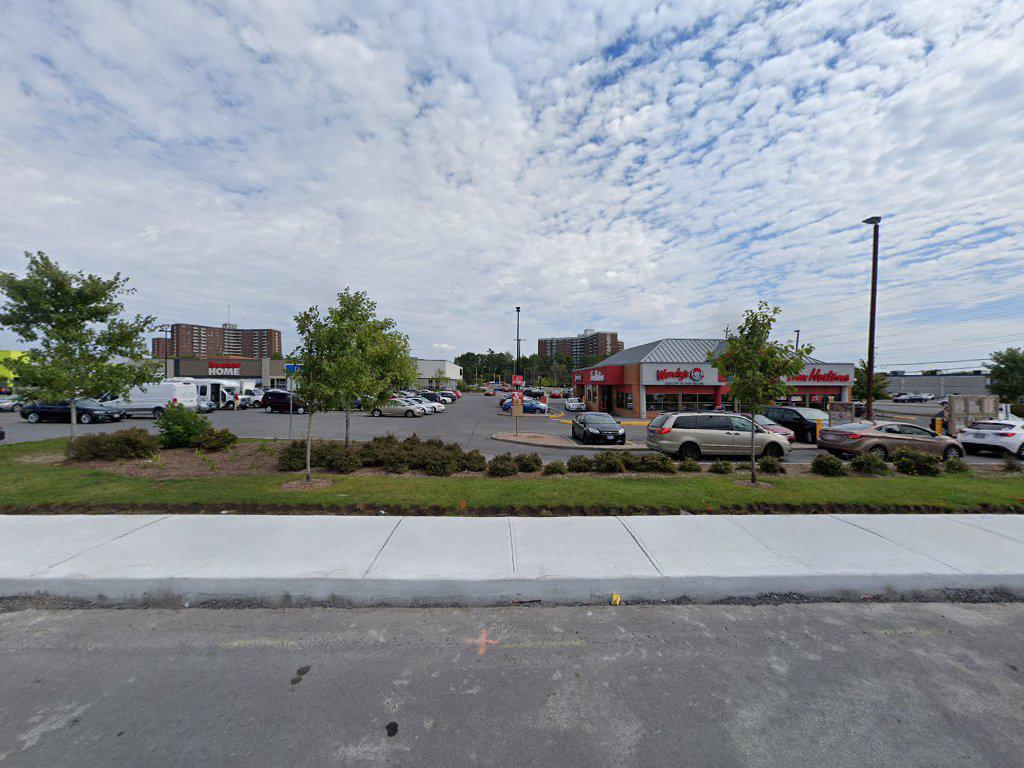trunk: (748, 408, 762, 486), (64, 396, 83, 450)
